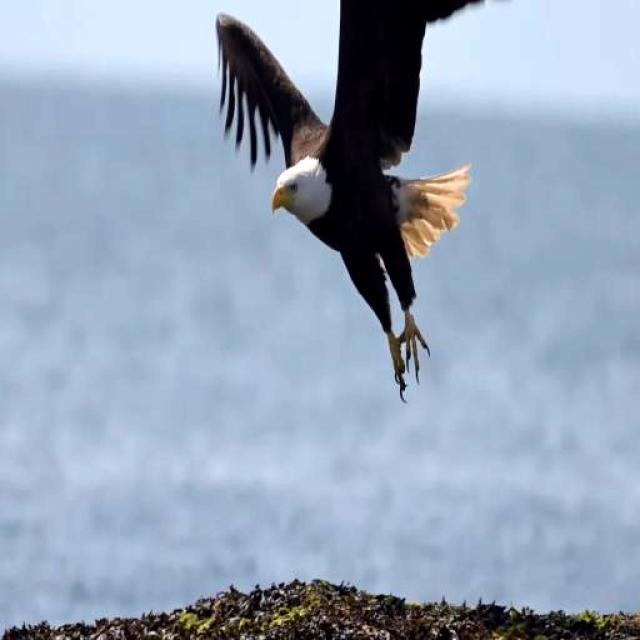airplane: (192, 0, 564, 398)
